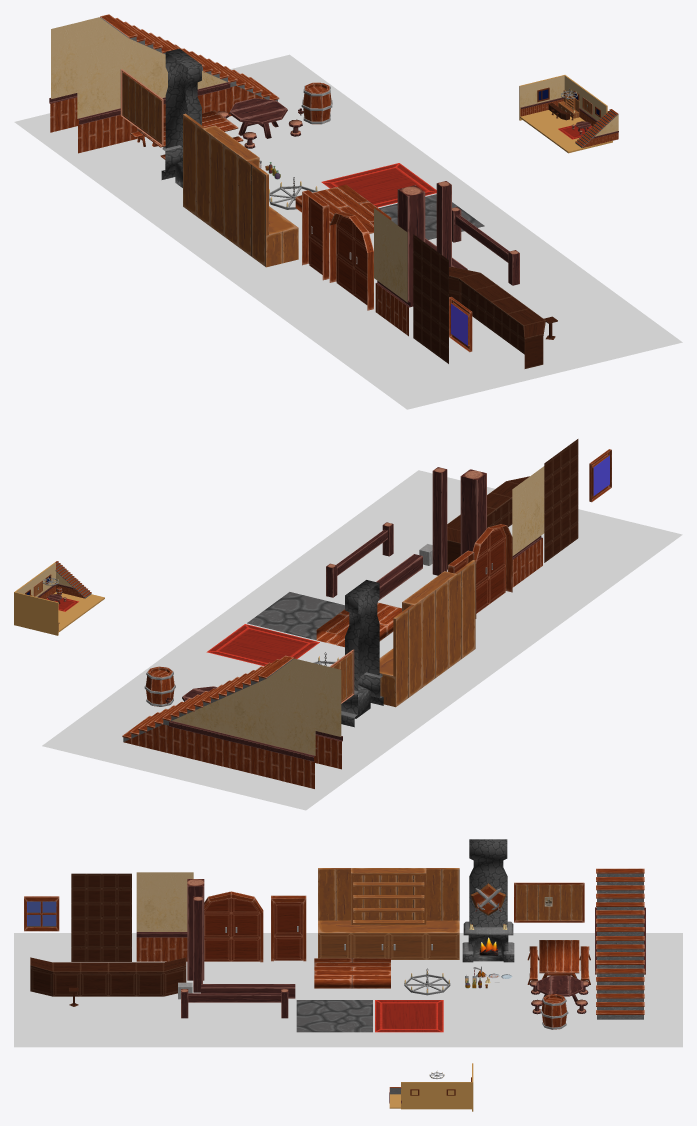
File: CABINInside.fbx
The picture shows the model from 3 angles, top to bottom: view 1: azimuth 30°, elevation 25°; view 2: azimuth 150°, elevation 25°; view 3: azimuth 270°, elevation 25°; orthographic projection. The views are drawn at different scales.
Visible parts, largest first — view 1: Plane.006, Escaleras.002, BaseCube.003, BarraBar.002, Plane.005, Wall1.022, ChimeneaMK1.002, PuertaDoble.002, Carpetlong.001, Ventana.006, Puerta.007, Viga.005 (+10 smaller); view 2: Plane.006, Escaleras.002, BaseCube.003, ChimeneaMK1.002, Plane.005, Wall1.022, PuertaDoble.002, Carpetlong.001, Plane, cabinlowpoly.042, Viga.005, BarraBar.002 (+8 smaller); view 3: Plane.006, BaseCube.003, Escaleras.002, Plane.005, BarraBar.002, Wall1.022, ChimeneaMK1.002, PuertaDoble.002, Ventana.006, Plane, SueloTablas.001, Puerta.007 (+12 smaller).
Part boxes in pixels (left/top/right/bottom): Plane.006: left=14, top=54, right=682, bottom=409; Escaleras.002: left=49, top=14, right=279, bottom=153; BaseCube.003: left=183, top=113, right=298, bottom=267; BarraBar.002: left=449, top=267, right=545, bottom=368; Plane.005: left=413, top=234, right=448, bottom=363; Wall1.022: left=374, top=208, right=410, bottom=336; ChimeneaMK1.002: left=161, top=48, right=201, bottom=187; PuertaDoble.002: left=329, top=211, right=373, bottom=310; Carpetlong.001: left=321, top=163, right=436, bottom=207; Ventana.006: left=120, top=69, right=163, bottom=145; Puerta.007: left=302, top=190, right=329, bottom=280; Viga.005: left=397, top=185, right=425, bottom=306; Plane.006: left=42, top=470, right=682, bottom=810; Escaleras.002: left=122, top=655, right=342, bottom=788; BaseCube.003: left=379, top=560, right=475, bottom=707; ChimeneaMK1.002: left=341, top=580, right=383, bottom=727; Plane.005: left=544, top=439, right=578, bottom=562; Wall1.022: left=512, top=466, right=544, bottom=587; PuertaDoble.002: left=472, top=524, right=512, bottom=618; Carpetlong.001: left=206, top=624, right=319, bottom=666; Plane: left=247, top=592, right=344, bottom=640; cabinlowpoly.042: left=14, top=562, right=104, bottom=635; Viga.005: left=460, top=469, right=486, bottom=555; BarraBar.002: left=447, top=476, right=529, bottom=569; Plane.006: left=14, top=933, right=682, bottom=1047; BaseCube.003: left=318, top=868, right=459, bottom=959; Escaleras.002: left=595, top=868, right=645, bottom=1019; Plane.005: left=71, top=873, right=131, bottom=961; BarraBar.002: left=30, top=957, right=186, bottom=996; Wall1.022: left=136, top=872, right=193, bottom=961; ChimeneaMK1.002: left=462, top=839, right=514, bottom=962; PuertaDoble.002: left=204, top=891, right=263, bottom=962; Ventana.006: left=514, top=882, right=584, bottom=922; Plane: left=296, top=1000, right=372, bottom=1032; SueloTablas.001: left=314, top=958, right=390, bottom=988; Puerta.007: left=271, top=895, right=306, bottom=961.
Size of the model in its own units: 1835 by 547 by 2891.
